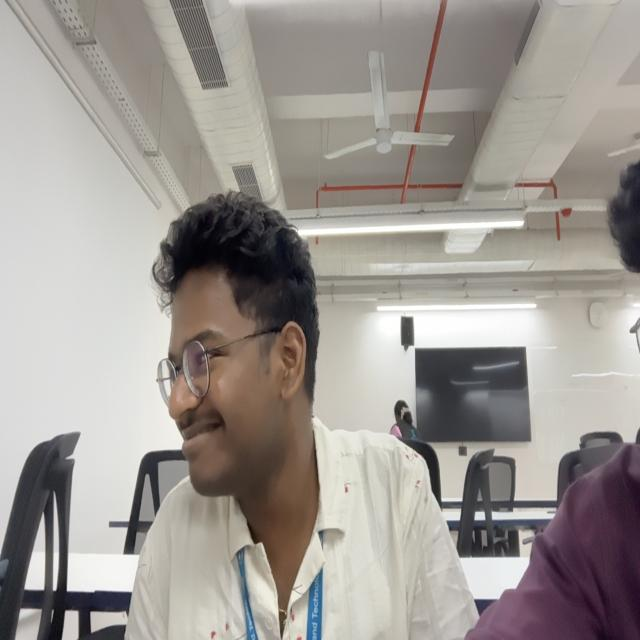sai: (150, 192, 320, 490)
